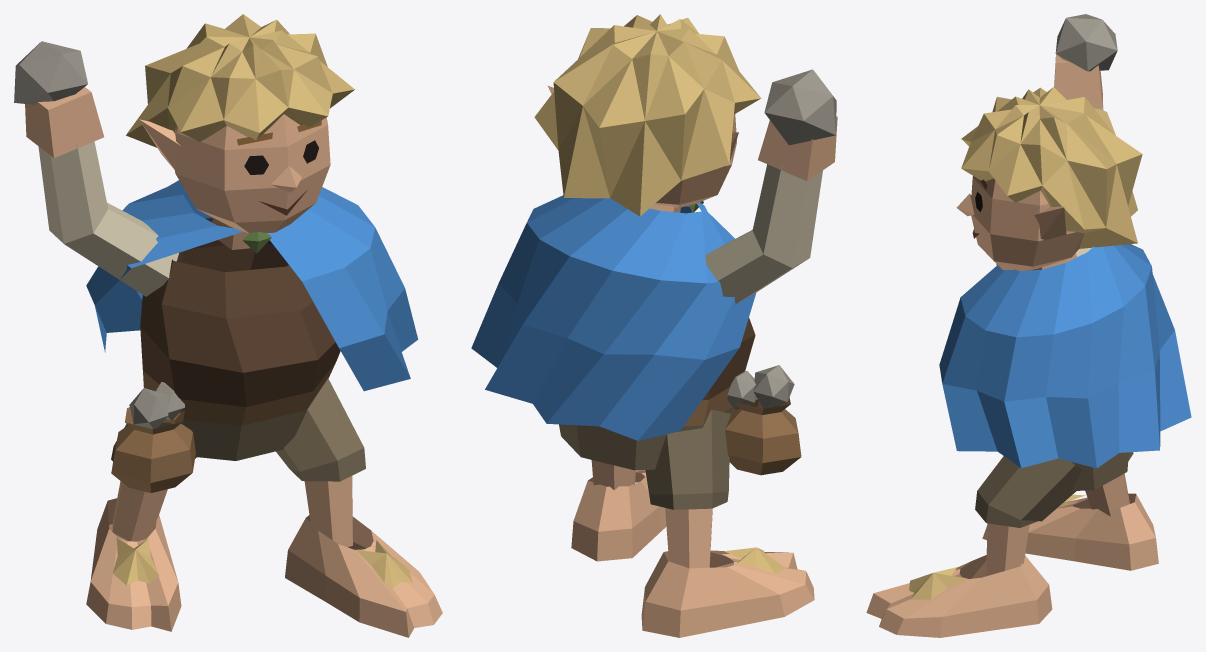
File: pippin.glb
The picture shows the model from 3 angles, left to right: view 1: azimuth 30°, elevation 25°; view 2: azimuth 150°, elevation 25°; view 3: azimuth 270°, elevation 25°; orthographic projection. The views are drawn at different scales.
Parts seen in each view (by area): view 1: pippin; view 2: pippin; view 3: pippin.
Part boxes in pixels (<box>): pippin: <box>14,14,442,637</box>; pippin: <box>471,14,837,637</box>; pippin: <box>866,14,1191,637</box>.
Bounding box in the file's own units: 0.6058 × 0.8816 × 0.5259.
